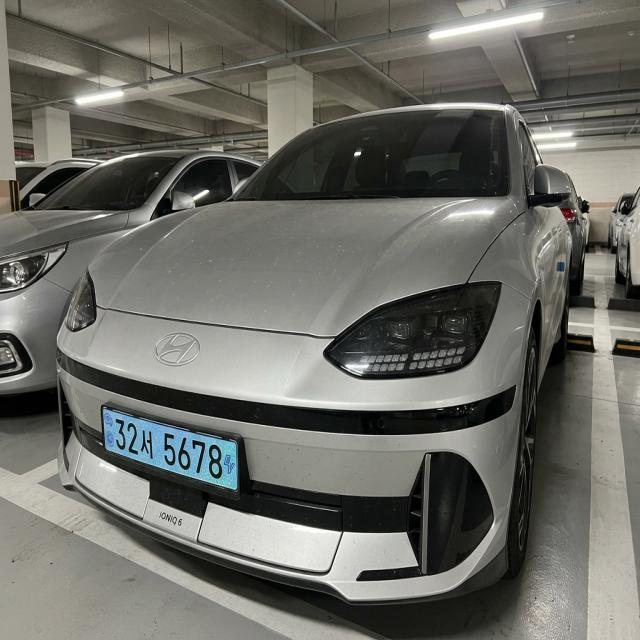car: (95, 400, 252, 496)
carev: (101, 407, 115, 461), (225, 438, 239, 488)
